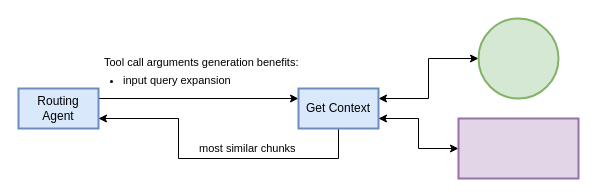
Some shapes in this 596 by 196 pixel diagram are drawn without their labels. Here are the shapes that lost their labels. From the top down, the centre of each, then its label:
At (x=518, y=58): "LLM embeddings".
At (x=518, y=148): "Vector DB".
